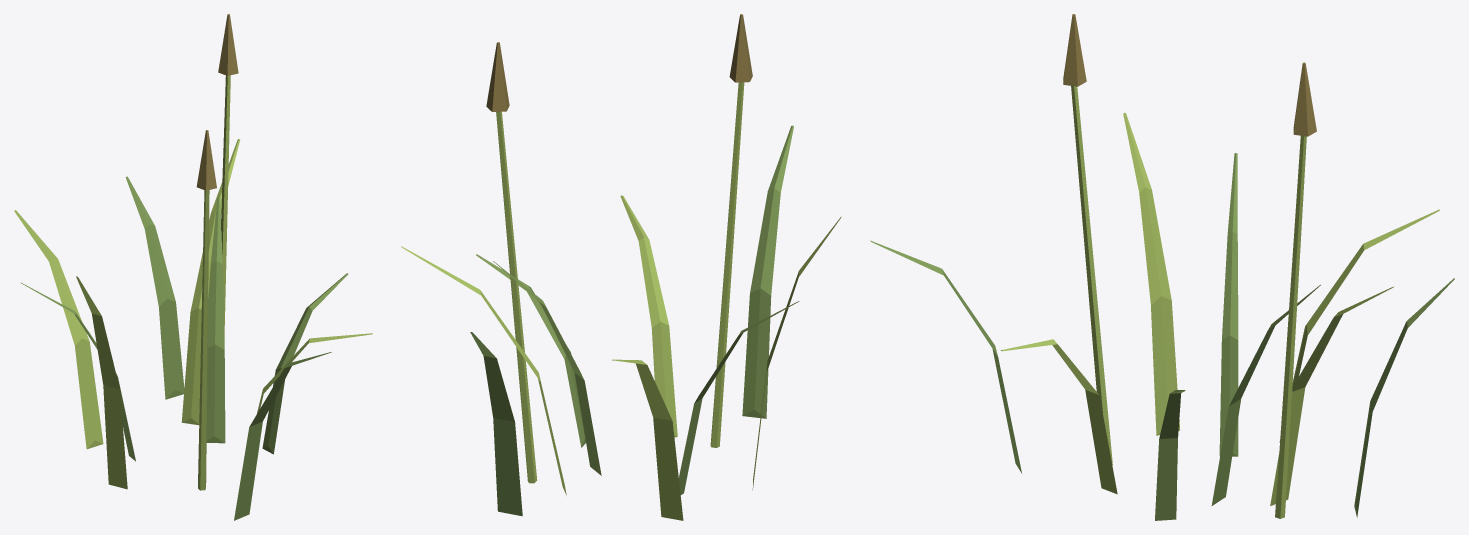
Rendered from marsh_grass_a.glb.
3 renders of one model, left to right at view 1: azimuth 30°, elevation 25°; view 2: azimuth 150°, elevation 25°; view 3: azimuth 270°, elevation 25°, orthographic. The views are drawn at different scales.
Visible parts, largest first — view 1: MarshGrassA; view 2: MarshGrassA; view 3: MarshGrassA.
Part boxes in pixels (x1,y1,x2,y2): MarshGrassA: [14, 14, 372, 520]; MarshGrassA: [401, 14, 841, 520]; MarshGrassA: [870, 14, 1454, 520].
Size of the model in its own units: 0.7477 by 0.9141 by 1.03.
